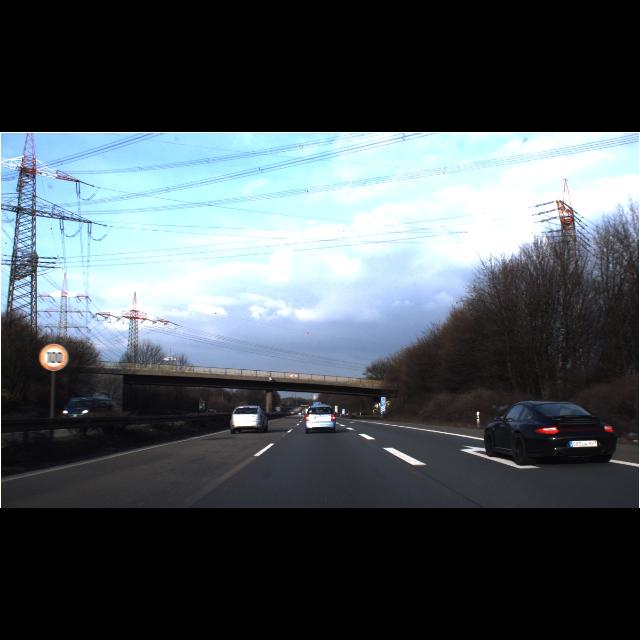prohibitory: (38, 344, 68, 371)
